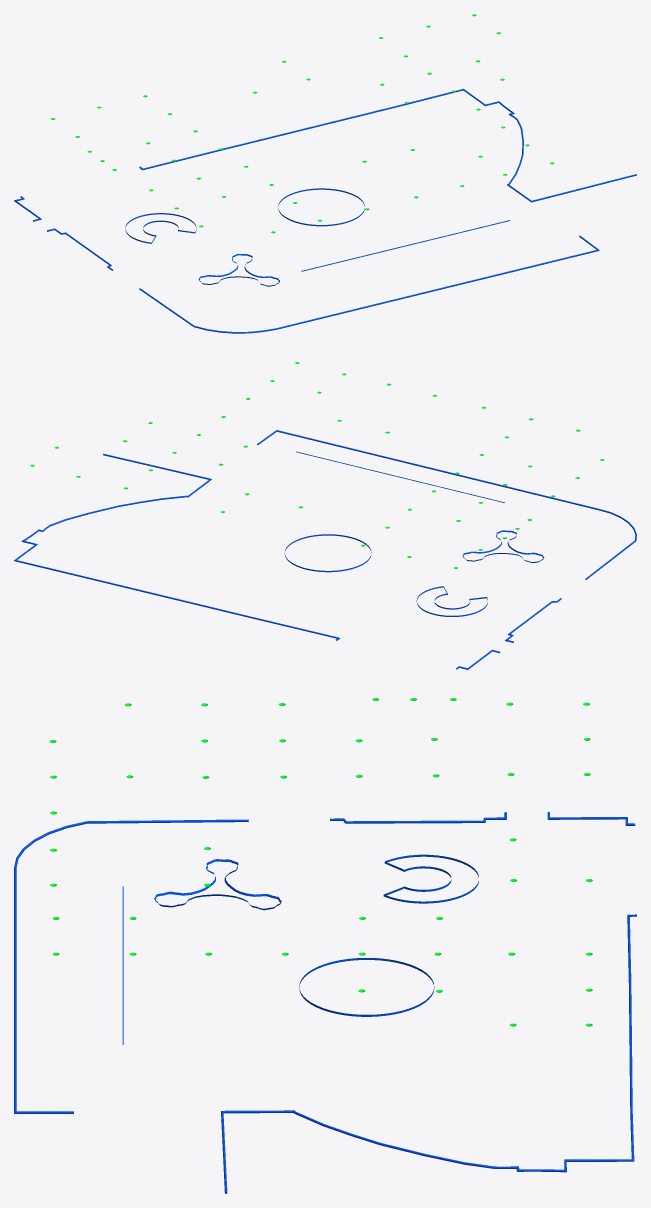
The model's file is deng.FBX.
3 renders of one model, top to bottom at view 1: azimuth 30°, elevation 25°; view 2: azimuth 150°, elevation 25°; view 3: azimuth 270°, elevation 25°, orthographic. The views are drawn at different scales.
Parts seen in each view (by area): view 1: dideng, dingdeng; view 2: dideng, dingdeng; view 3: dideng, dingdeng.
Boxes of the visible parts, x1,y1,x2,y2 form: dideng: [14, 88, 636, 333]; dingdeng: [51, 14, 554, 233]; dideng: [14, 430, 636, 669]; dingdeng: [30, 362, 603, 568]; dideng: [14, 812, 636, 1193]; dingdeng: [49, 698, 592, 1026].
Bounding box in the file's own units: 0.8348 × 0.1379 × 0.5785.
